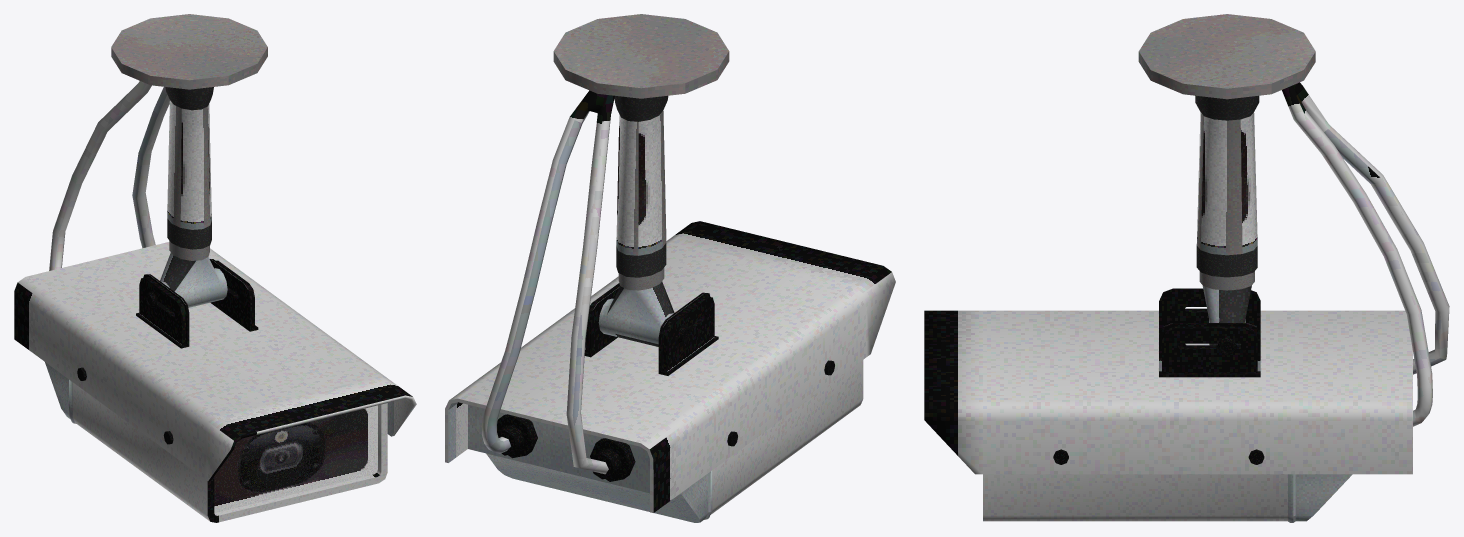
File: cctv_b.glb
The picture shows the model from 3 angles, left to right: view 1: azimuth 30°, elevation 25°; view 2: azimuth 150°, elevation 25°; view 3: azimuth 270°, elevation 25°; orthographic projection. The views are drawn at different scales.
Visible parts, largest first — view 1: CCTV_B.001; view 2: CCTV_B.001; view 3: CCTV_B.001.
Part boxes in pixels (x1,y1,x2,y2): CCTV_B.001: (14, 14, 416, 522); CCTV_B.001: (445, 14, 895, 522); CCTV_B.001: (924, 14, 1449, 522).
Bounding box in the file's own units: 0.1088 × 0.2047 × 0.2284.
Materials: 1 (1 with a texture image).
